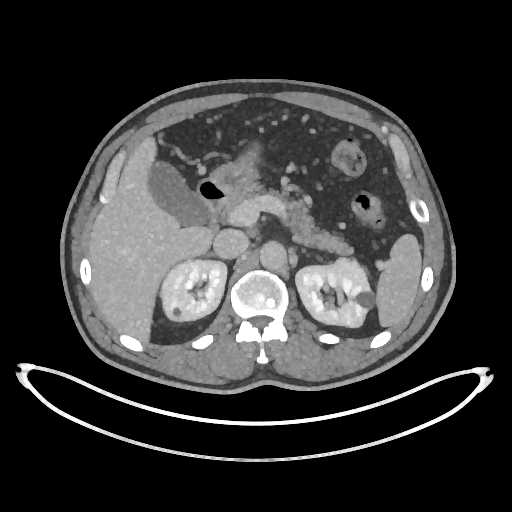Lesion: (350, 287, 377, 311)
